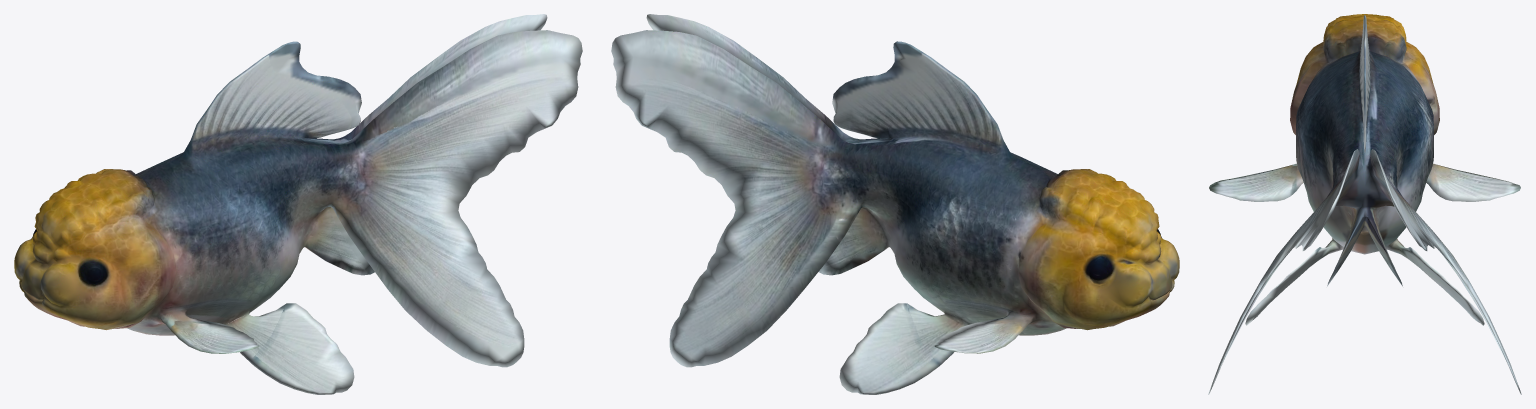
File: fish.glb
The picture shows the model from 3 angles, left to right: view 1: azimuth 30°, elevation 25°; view 2: azimuth 150°, elevation 25°; view 3: azimuth 270°, elevation 25°; orthographic projection.
Parts seen in each view (by area): view 1: fish; view 2: fish; view 3: fish.
Part boxes in pixels (x1=…): fish: x1=14, y1=14, x2=582, y2=394; fish: x1=611, y1=14, x2=1179, y2=394; fish: x1=1208, y1=14, x2=1521, y2=394.
Bounding box in the file's own units: 0.12 × 0.0655 × 0.06.
1 material, 1 textured.
